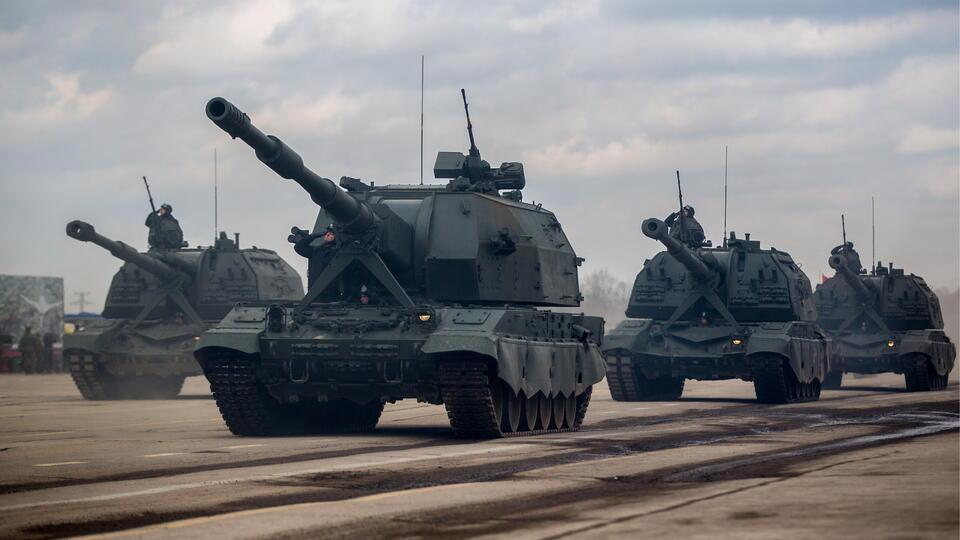person: (20, 326, 39, 380)
sau: (182, 87, 625, 452), (596, 185, 852, 421), (56, 175, 317, 401), (813, 233, 960, 398)
